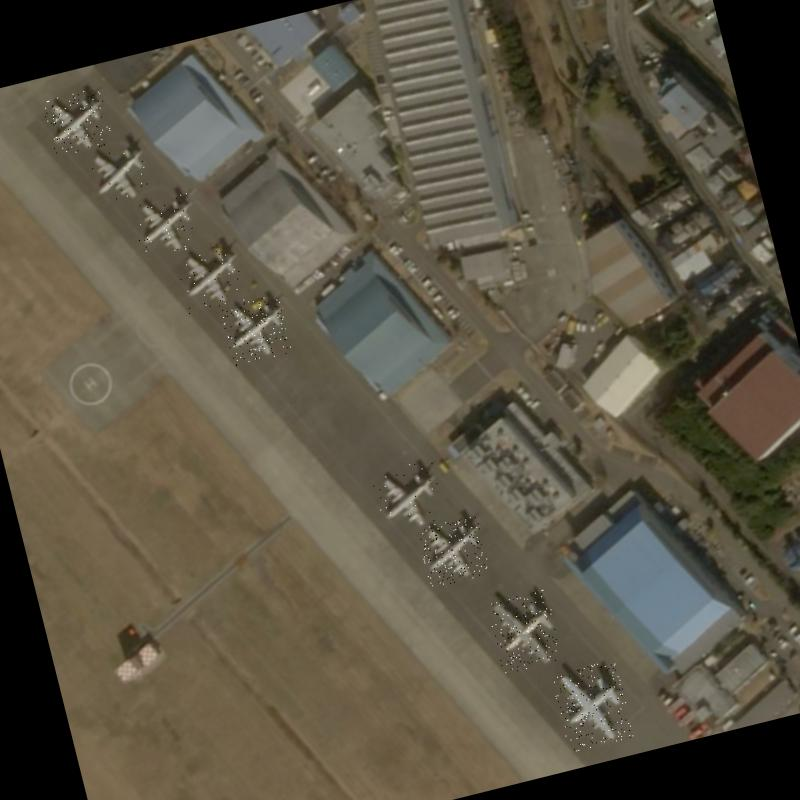A2: (550, 658, 634, 752), (486, 588, 564, 674)
A9: (370, 457, 448, 538), (416, 514, 490, 588), (219, 293, 292, 366), (175, 242, 248, 314), (41, 86, 113, 158), (130, 189, 202, 260), (85, 140, 154, 207)
